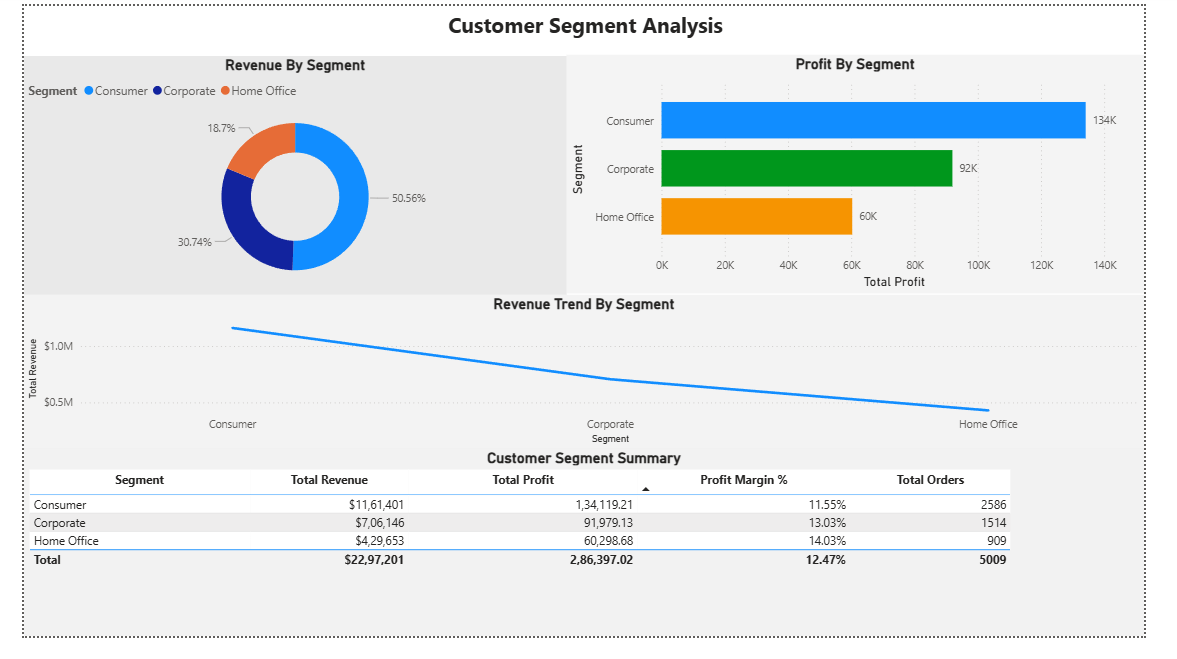

What the dashboard file says about the page in this screenshot:
{"tool":"powerbi","page":{"name":"Customer_Segment_Analysis","canvas":[1280,720],"ordinal":2},"visuals":[{"type":"textbox","box":[10,0,1270,55.7],"z":0},{"type":"donutChart","title":"Revenue  By Segment","fields":{"Category":["superstore.Segment"],"Y":["superstore.Total Revenue"]},"box":[0,57.1,620,272.9],"z":1000},{"type":"clusteredBarChart","title":"Profit By Segment","fields":{"Y":["superstore.Total  Profit"],"Category":["superstore.Segment"]},"box":[620,55.7,660,272.9],"z":2000},{"type":"lineChart","title":"Revenue Trend By Segment","fields":{"Y":["superstore.Total Revenue"],"Category":["superstore.Segment"]},"box":[0,330,1280,176],"z":3000},{"type":"tableEx","title":"Customer Segment Summary","fields":{"Values":["superstore.Segment","superstore.Total Revenue","superstore.Total  Profit","superstore.Profit Margin %","superstore.Total Orders"]},"box":[0,505.7,1280,214.3],"z":4000}]}

Visuals, with their boxes in screenshot pixels (x1, y1, x2, y2), scaled from the page's 1280x720 canvas onto the 1177x659 screenshot:
textbox: 9 0 1176 51
"Revenue  By Segment" donutChart: 0 52 570 302
"Profit By Segment" clusteredBarChart: 570 51 1176 301
"Revenue Trend By Segment" lineChart: 0 302 1176 463
"Customer Segment Summary" tableEx: 0 463 1176 658
